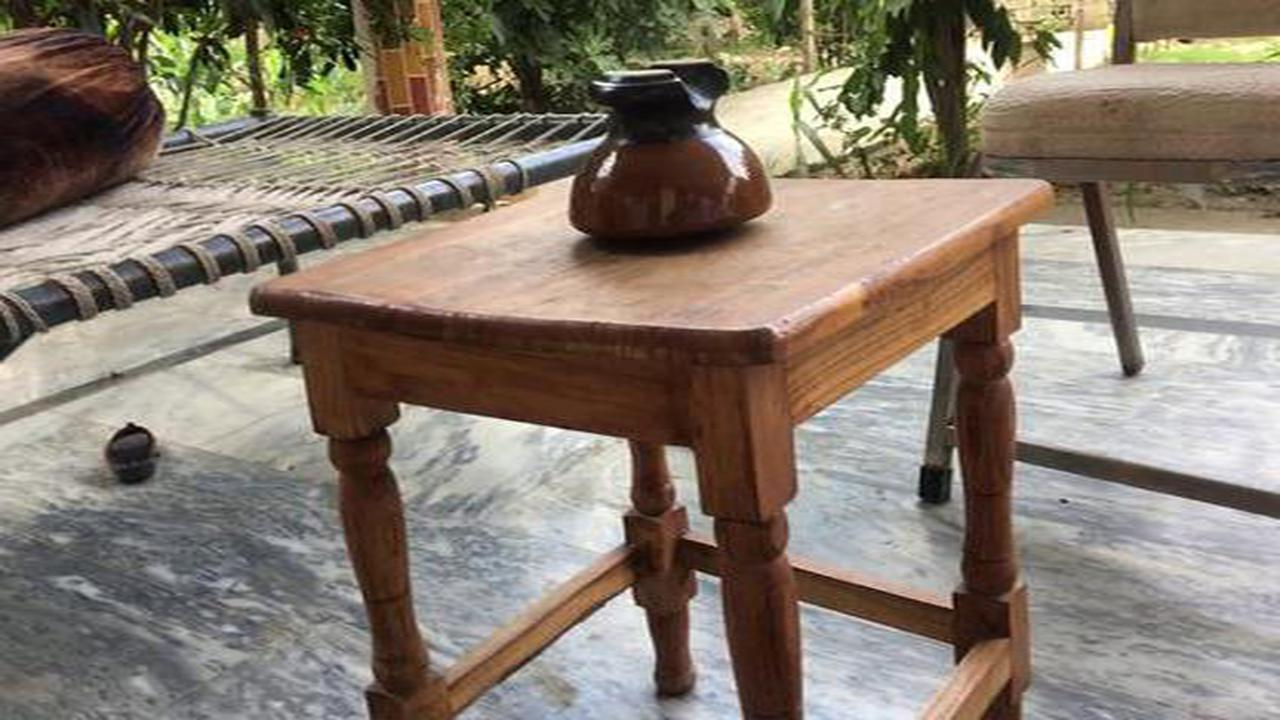insulator_pin: (554, 58, 791, 258)
